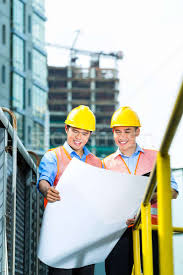helmet: (65, 105, 97, 130), (110, 106, 140, 126)
vest: (107, 155, 168, 225), (53, 149, 99, 210)
